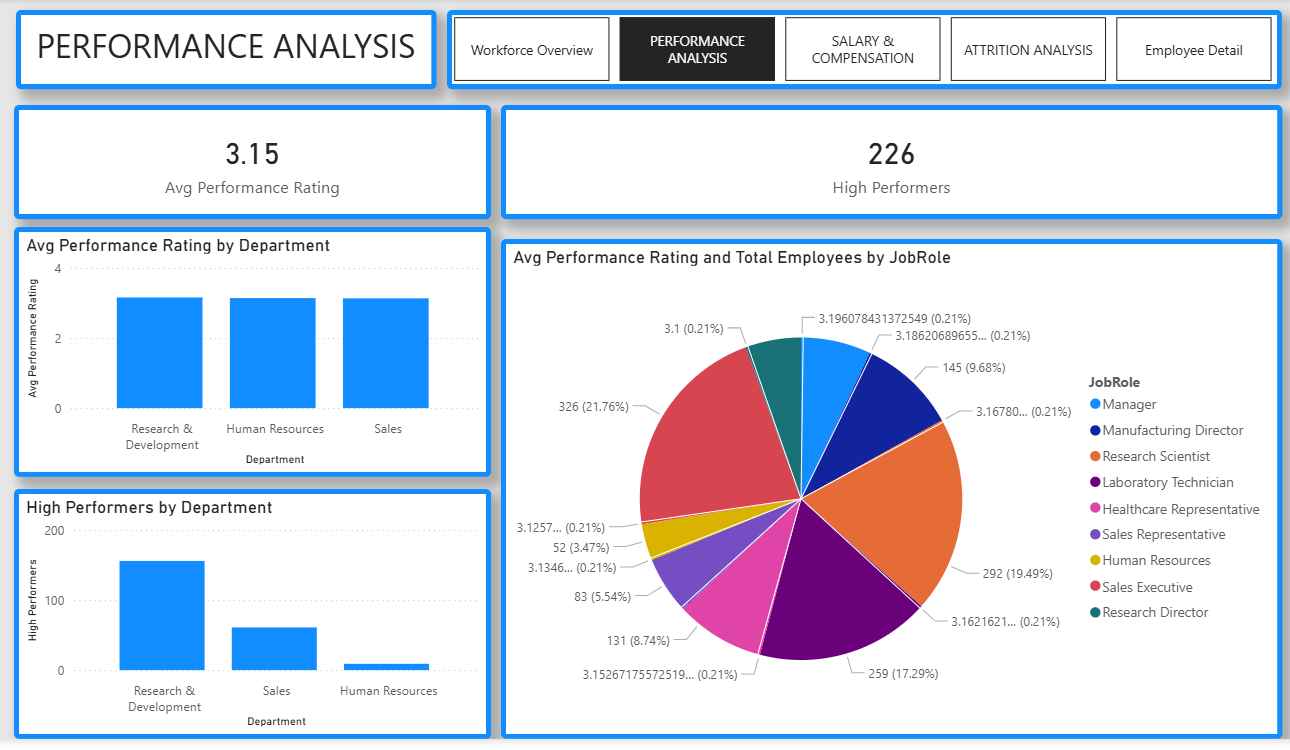

The dashboard page shown, as its layout file describes it:
{"tool":"powerbi","page":{"name":"PERFORMANCE ANALYSIS","canvas":[1280,720],"ordinal":1},"visuals":[{"type":"card","fields":{"Values":["Measuretbl.Avg Performance Rating"]},"box":[20.4,103.1,464,110.9],"z":0},{"type":"card","fields":{"Values":["Measuretbl.High Performers"]},"box":[494.1,103.1,759.6,110.9],"z":1000},{"type":"columnChart","fields":{"Y":["Measuretbl.Avg Performance Rating"],"Category":["DimDepartment.Department"]},"box":[20.4,221.8,464,243.2],"z":2000},{"type":"clusteredColumnChart","fields":{"Y":["Measuretbl.High Performers"],"Category":["DimDepartment.Department"]},"box":[20.4,476.6,464,243.2],"z":3000},{"type":"pieChart","fields":{"Category":["DimDepartment.Department","DimJobRole.JobRole"],"Y":["Measuretbl.Avg Performance Rating","Measuretbl.Total Employees"]},"box":[494.1,233.4,759.6,486.3],"z":4000},{"type":"textbox","box":[22.4,10.7,408.5,76.8],"z":5000},{"type":"pageNavigator","box":[441.6,10.7,812.2,76.8],"z":6000}]}

Visuals, with their boxes in screenshot pixels (x1, y1, x2, y2):
card - Measuretbl.Avg Performance Rating: detection(8, 100, 486, 214)
card - Measuretbl.High Performers: detection(496, 100, 1278, 214)
columnChart - Measuretbl.Avg Performance Rating x DimDepartment.Department: detection(8, 222, 486, 472)
clusteredColumnChart - Measuretbl.High Performers x DimDepartment.Department: detection(8, 484, 486, 735)
pieChart - DimDepartment.Department x DimJobRole.JobRole: detection(496, 234, 1278, 735)
textbox: detection(10, 4, 431, 83)
pageNavigator: detection(442, 4, 1278, 83)
